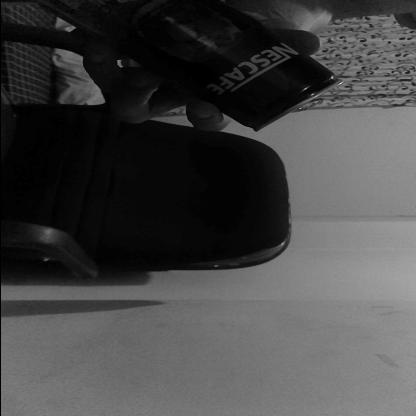alumunium_can: (119, 0, 345, 128)
